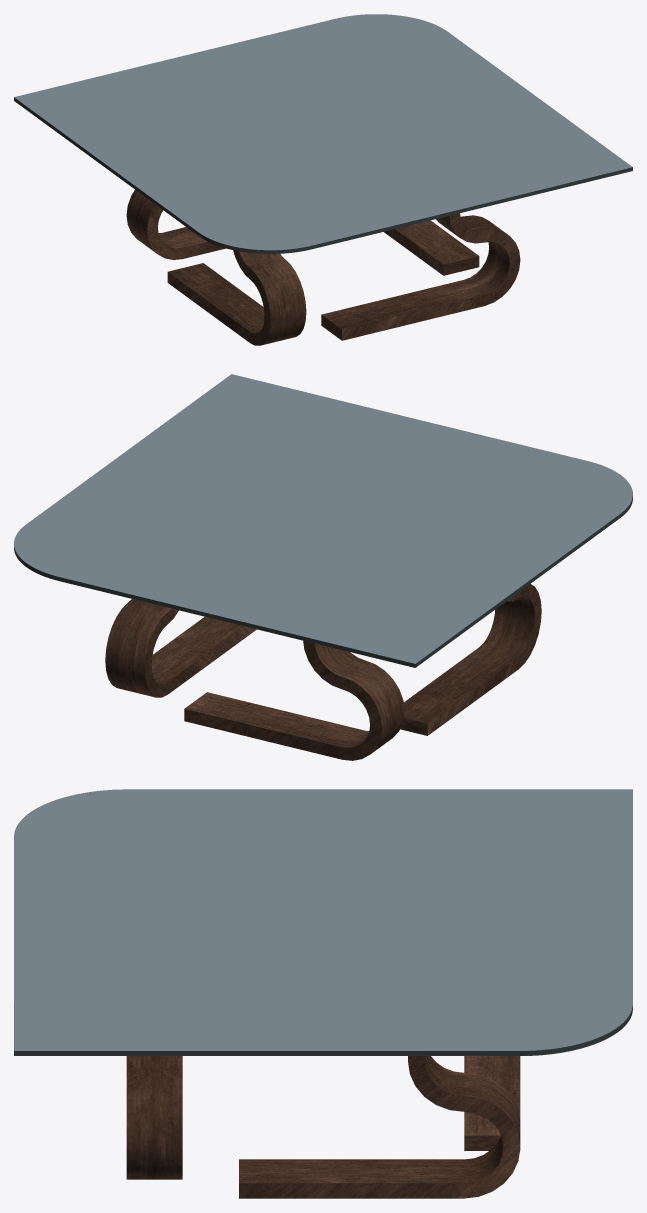
The model's file is glass_table.glb.
The picture shows the model from 3 angles, top to bottom: view 1: azimuth 30°, elevation 25°; view 2: azimuth 150°, elevation 25°; view 3: azimuth 270°, elevation 25°; orthographic projection. The views are drawn at different scales.
Visible parts, largest first — view 1: Object_2, Object_3; view 2: Object_2, Object_3; view 3: Object_2, Object_3.
Part boxes in pixels (left/top/right/bottom): Object_2: left=14, top=14, right=632, bottom=253; Object_3: left=126, top=190, right=520, bottom=345; Object_2: left=14, top=374, right=632, bottom=667; Object_3: left=105, top=584, right=541, bottom=760; Object_2: left=14, top=789, right=632, bottom=1055; Object_3: left=126, top=1056, right=520, bottom=1198.
Size of the model in its own units: 220 by 76.5 by 220.
Materials: 3 (3 with a texture image).
